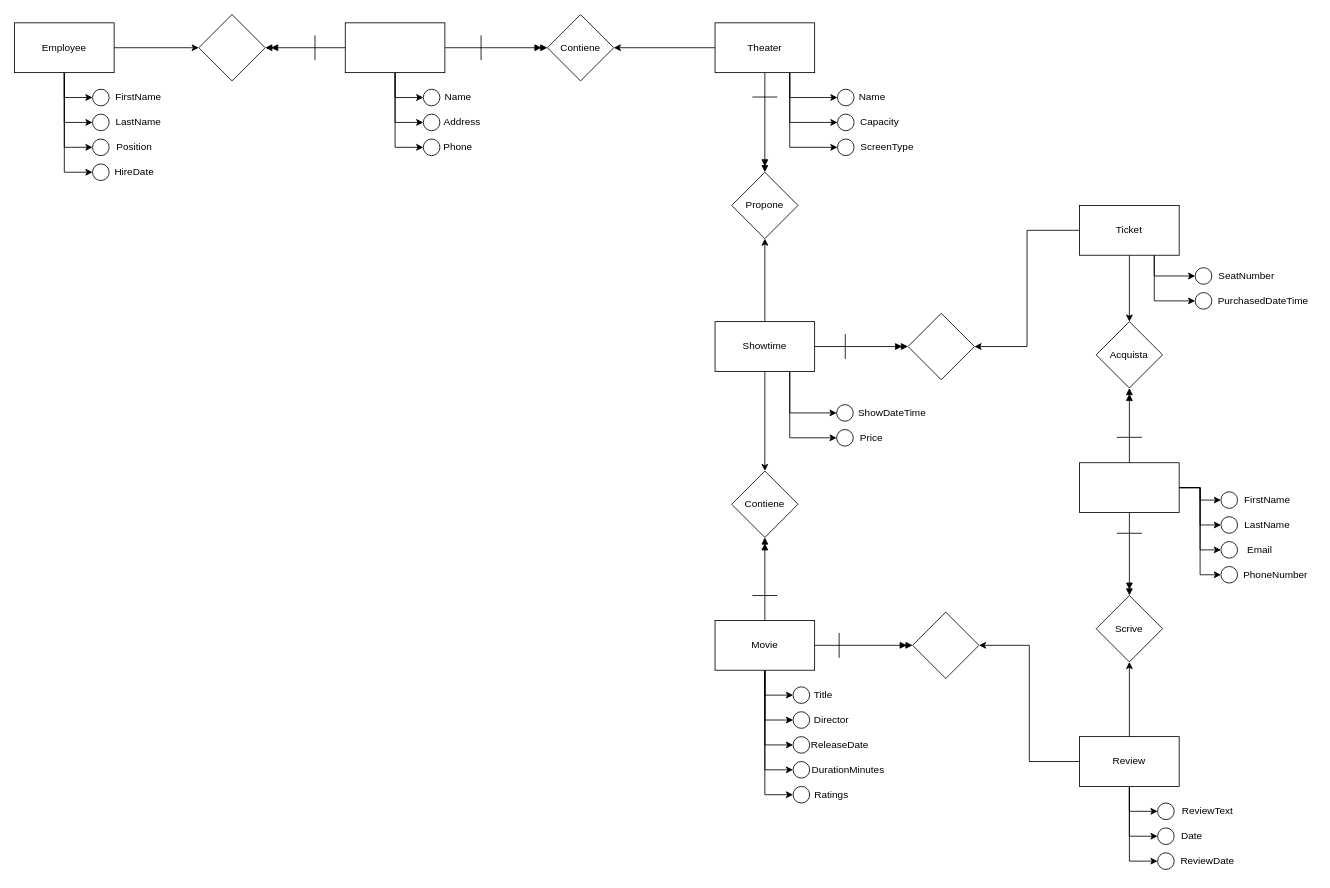
The diagram is 1330 pixels wide and 888 high, and some of its shapes have lost their labels. The shapes that lost their labels are listed below. From the top down, each one's centre as x and y in pixels, then its label:
At (231,47): "Gestisce".
At (394,47): "Cinema".
At (940,346): "Vende".
At (1129,487): "Customer".
At (945,645): "Genera".
